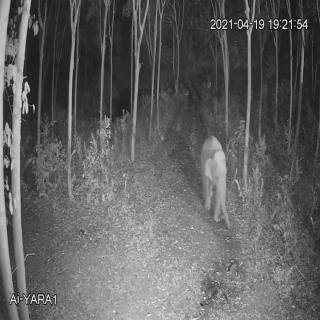Elephant: (191, 132, 240, 230)
